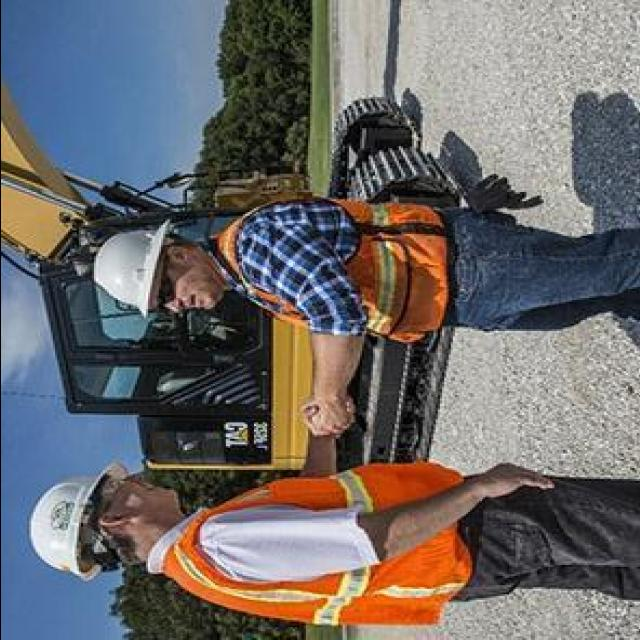helmet: (16, 457, 130, 601), (94, 211, 168, 325)
